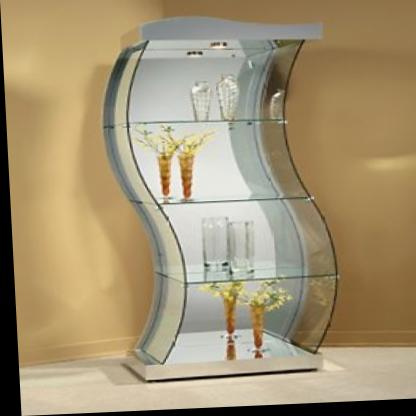Cupboard: (94, 11, 329, 384)
